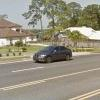Car: (28, 36, 77, 67)
